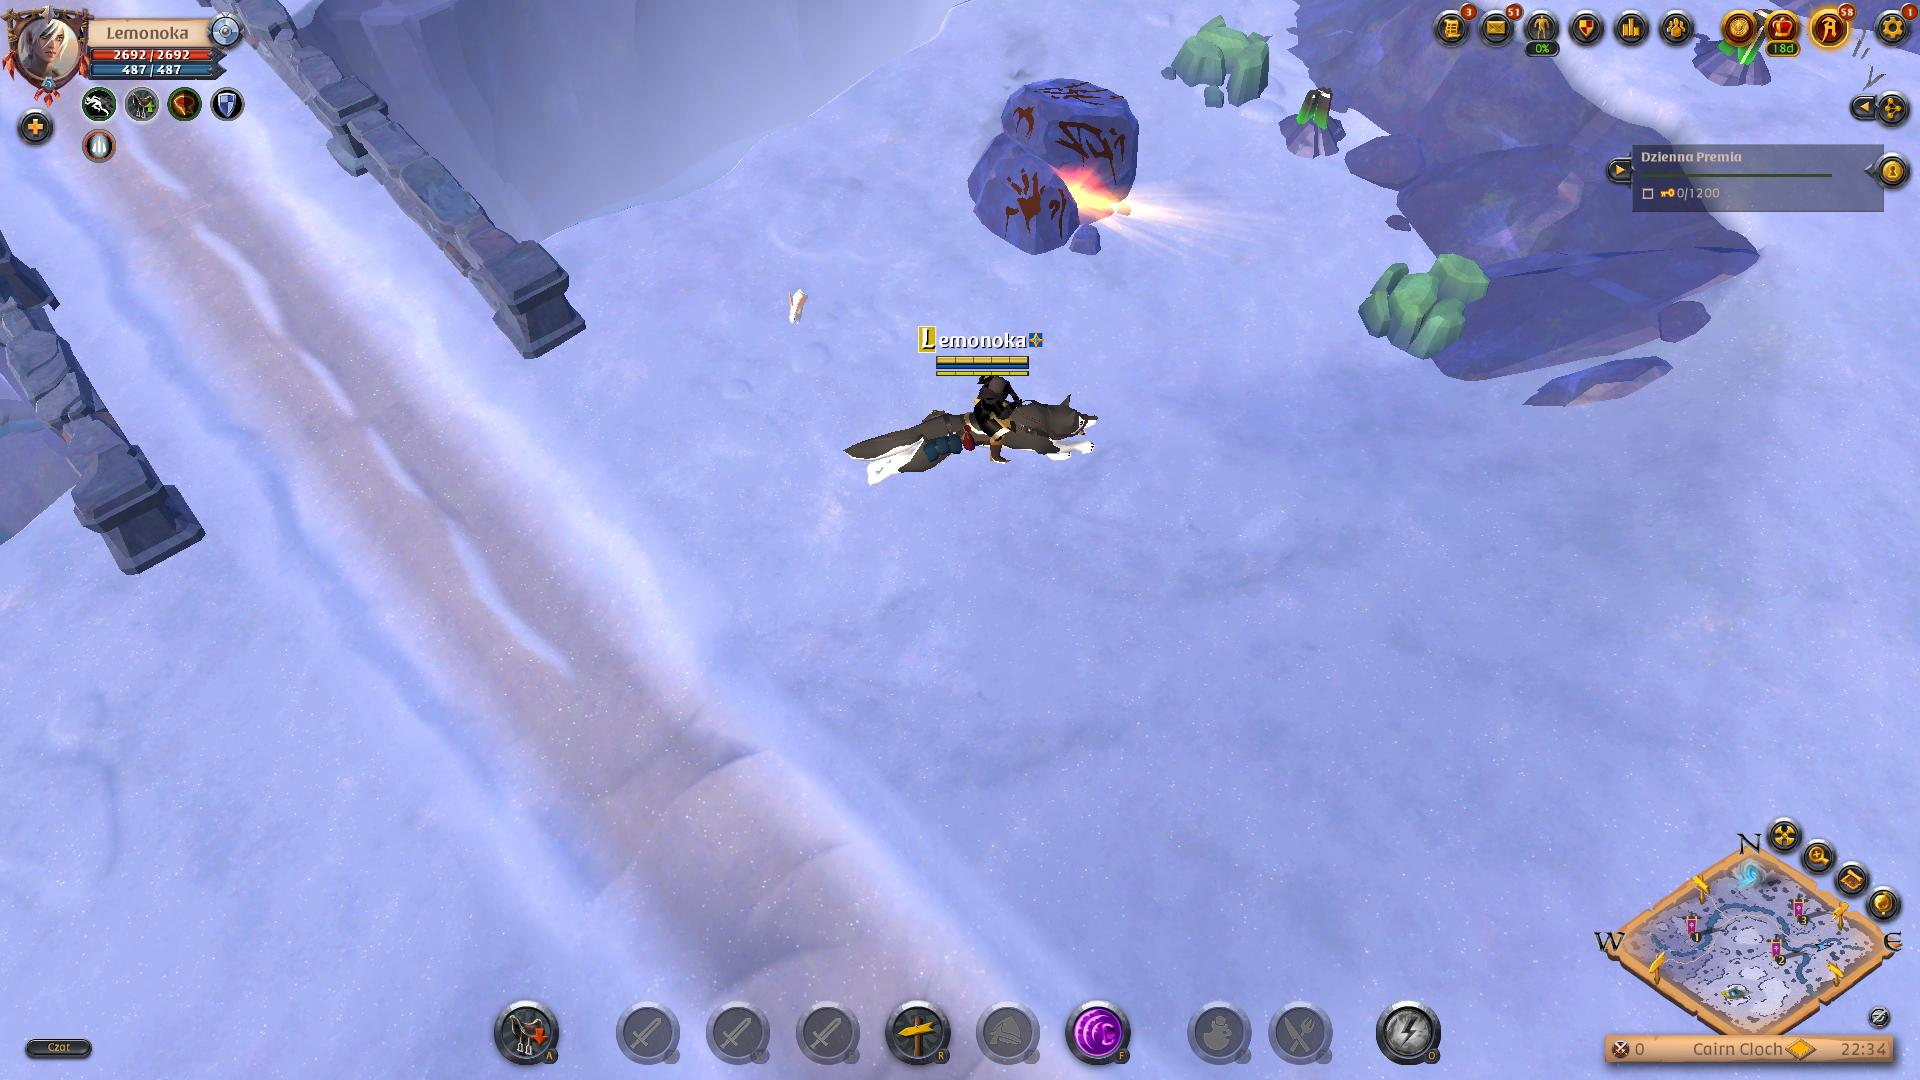ore tier 3: (1276, 87, 1346, 164)
rock tier 3: (1360, 252, 1493, 365), (1163, 11, 1275, 113)
